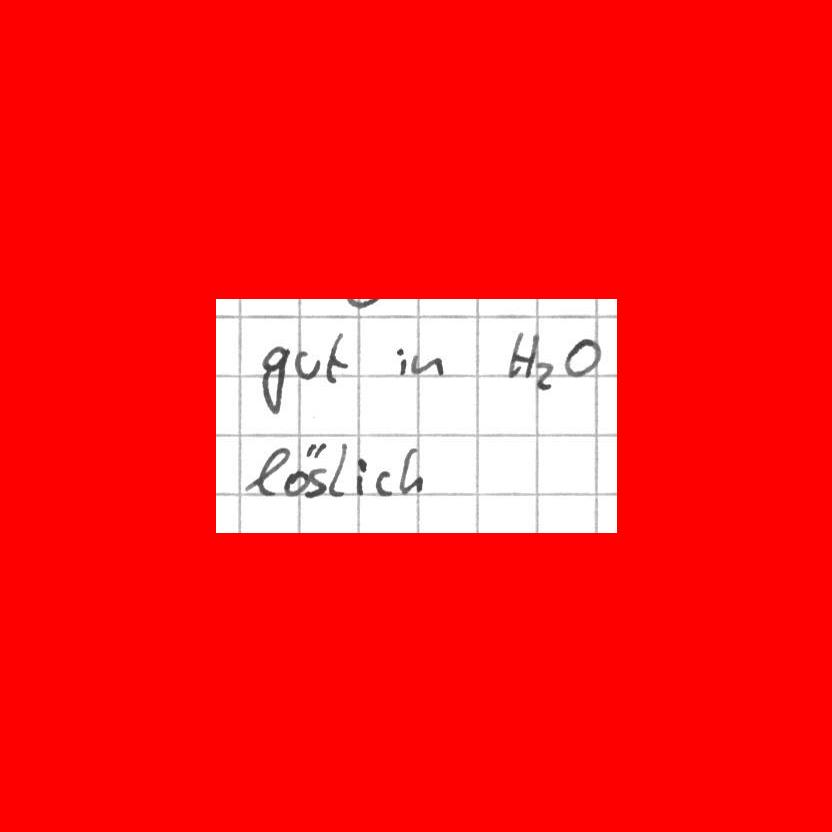Char: (287, 437, 329, 499), (257, 341, 290, 414), (243, 445, 286, 494), (504, 326, 539, 381), (563, 335, 600, 378), (324, 328, 350, 385), (397, 445, 423, 497), (330, 441, 350, 497), (410, 351, 443, 379), (293, 348, 320, 381), (534, 358, 554, 389), (355, 455, 369, 497), (374, 468, 394, 497), (394, 344, 408, 378)
